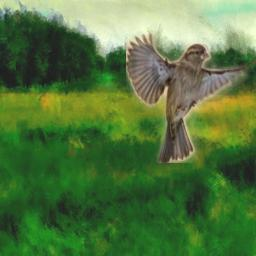Sparrow: (126, 31, 256, 163)
